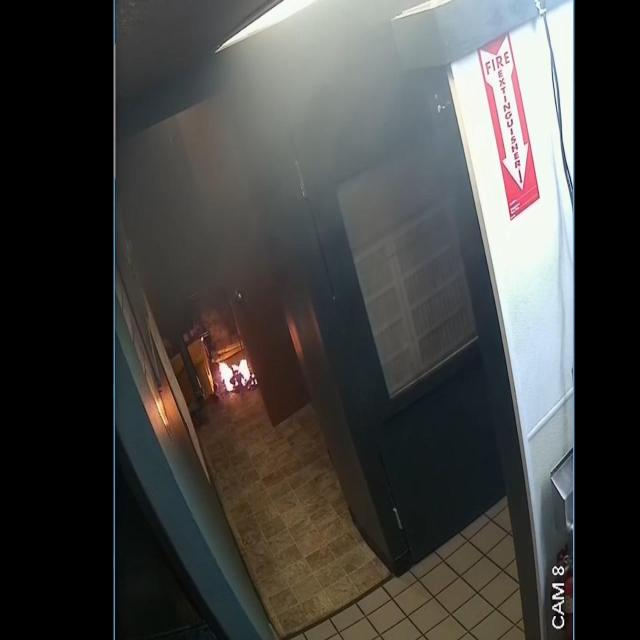fire: (219, 359, 251, 391)
